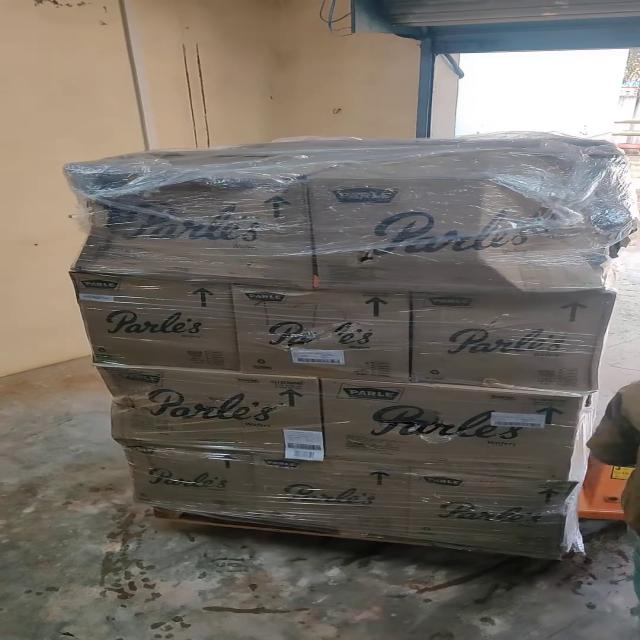squeeze: (474, 142, 640, 295), (53, 167, 284, 262)
tear: (370, 402, 495, 447)
